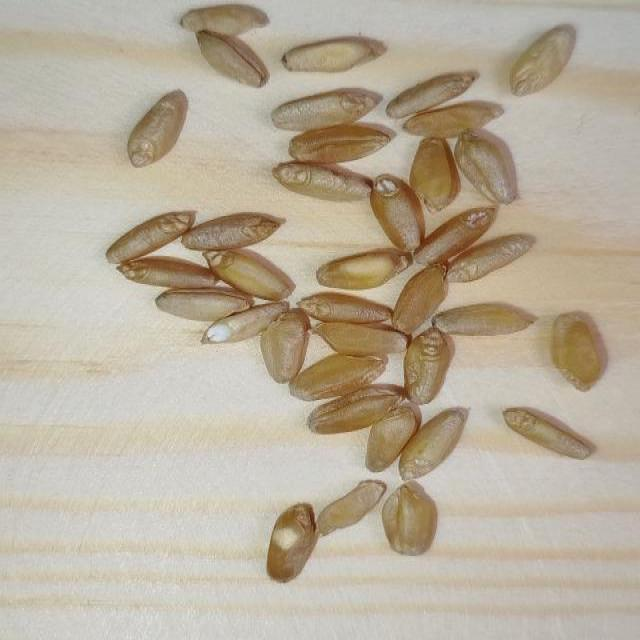wheat_grain: (410, 207, 494, 269), (397, 407, 468, 479), (454, 127, 518, 206), (306, 387, 407, 437), (504, 406, 595, 460), (271, 87, 382, 131), (510, 23, 576, 96), (106, 209, 193, 263), (288, 352, 390, 398), (127, 89, 187, 167), (207, 247, 295, 300), (550, 310, 606, 392), (195, 29, 269, 90), (385, 69, 476, 117), (370, 176, 426, 254), (315, 477, 387, 537), (444, 236, 533, 284), (381, 478, 437, 553), (363, 401, 422, 471), (391, 261, 446, 336), (403, 325, 454, 405), (266, 502, 317, 581), (280, 35, 386, 73), (181, 211, 286, 249), (408, 135, 459, 213), (401, 100, 503, 138), (288, 123, 389, 161), (203, 299, 289, 342), (314, 249, 406, 289), (275, 162, 374, 198), (262, 309, 310, 382), (155, 288, 254, 323), (120, 258, 225, 290), (434, 302, 535, 335), (312, 319, 405, 353), (298, 291, 394, 322), (179, 3, 269, 35)
